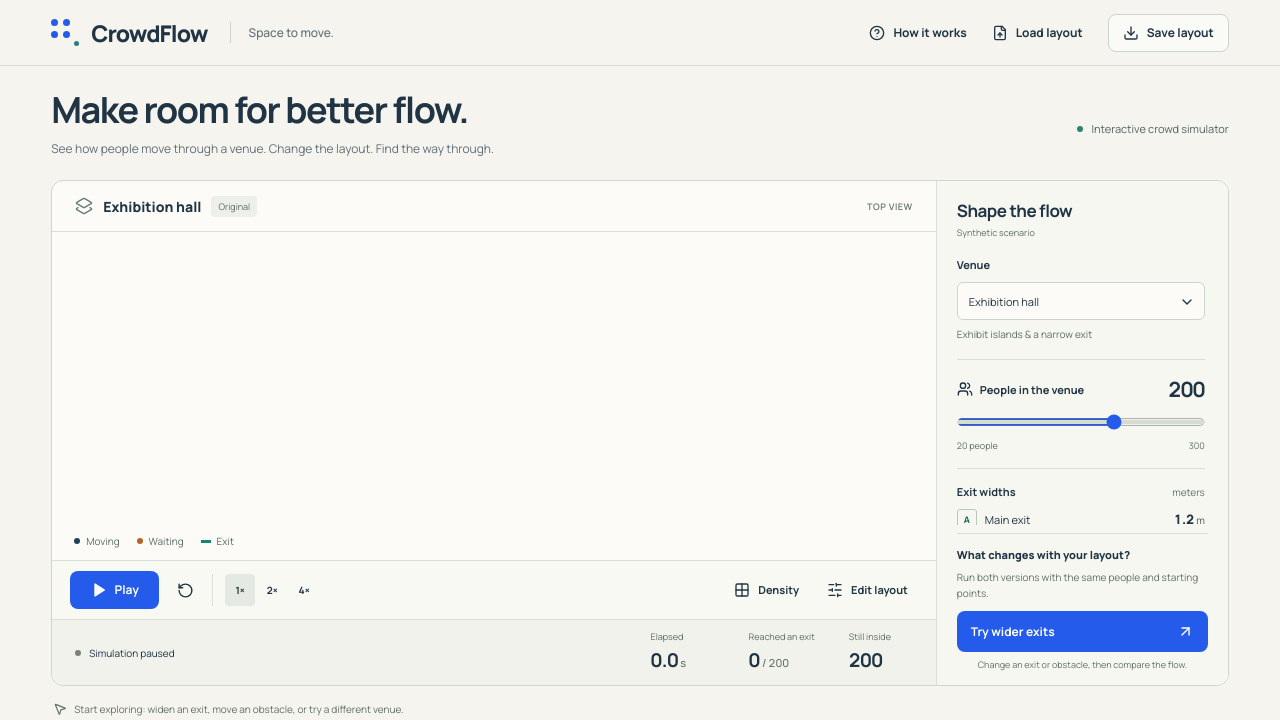
Test case: simulator controls › compares the original and changed layout with the same crowd and seed
Click the button "Try wider exits" at (1082, 631), box [957,611,1208,652]
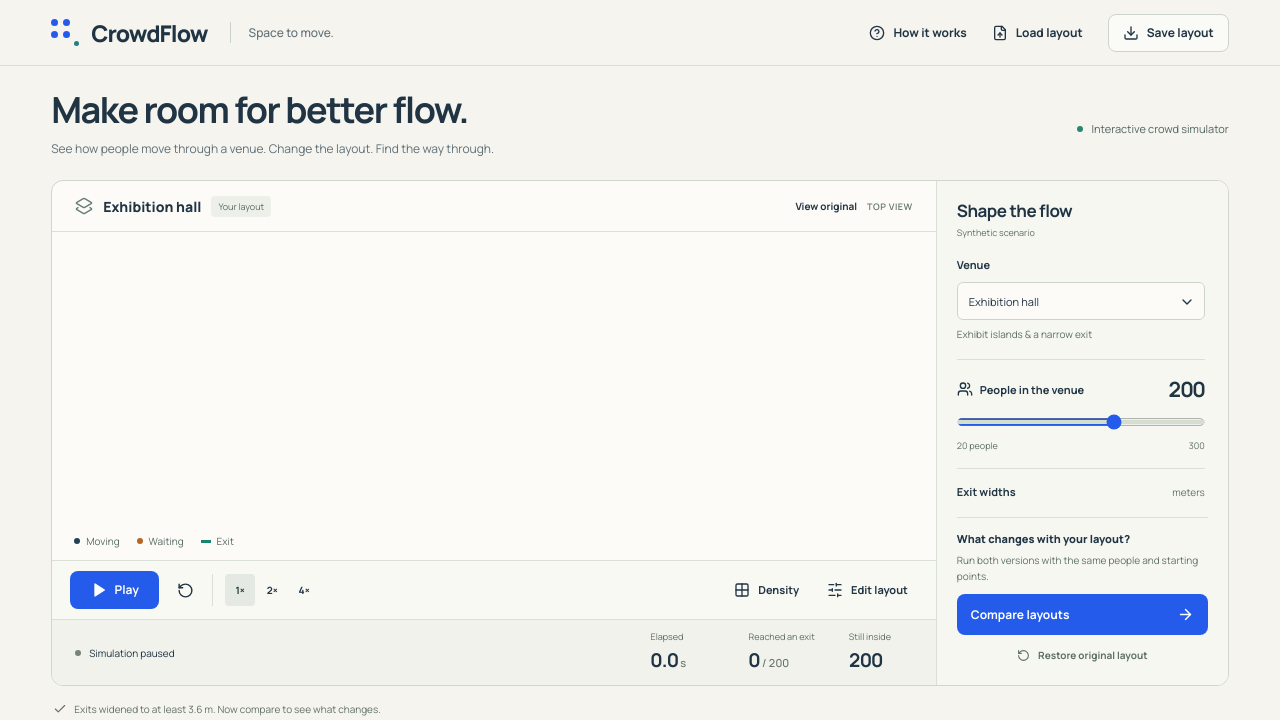
Click the button "Compare layouts" at (1082, 615), box [957,594,1208,635]
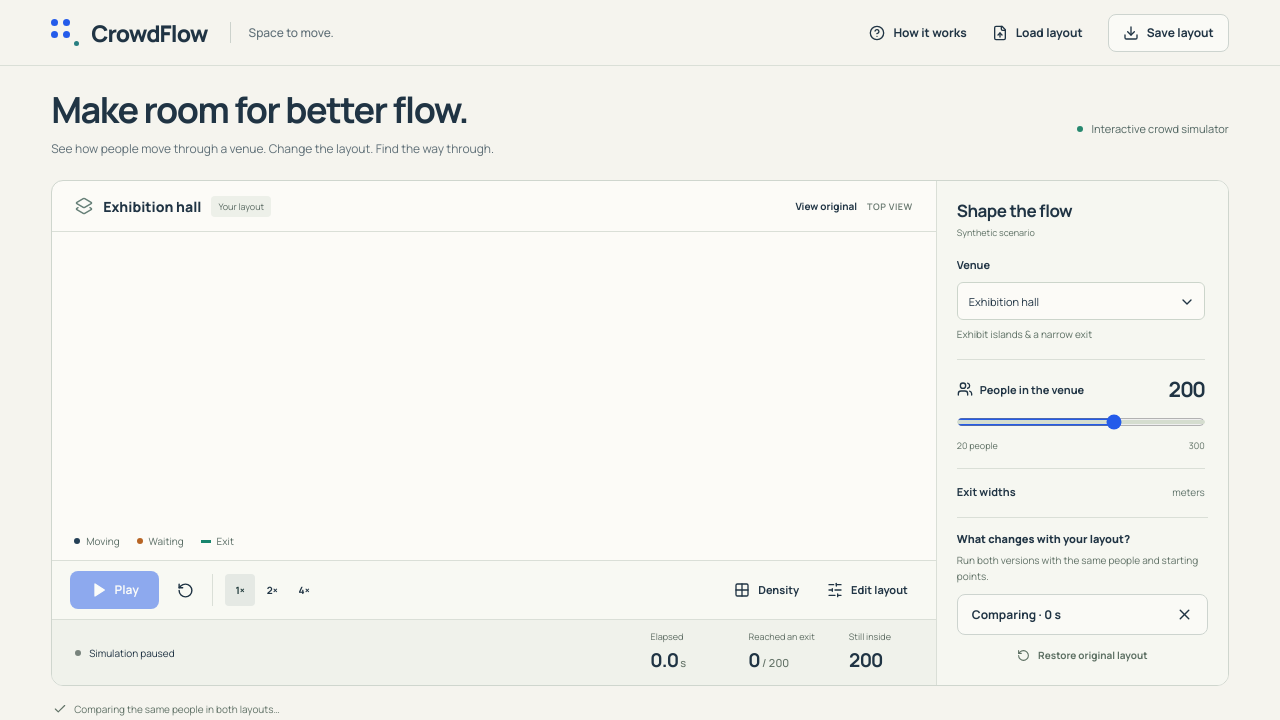
Click the button named "Cancel" at (1082, 615), box [957,594,1208,635]
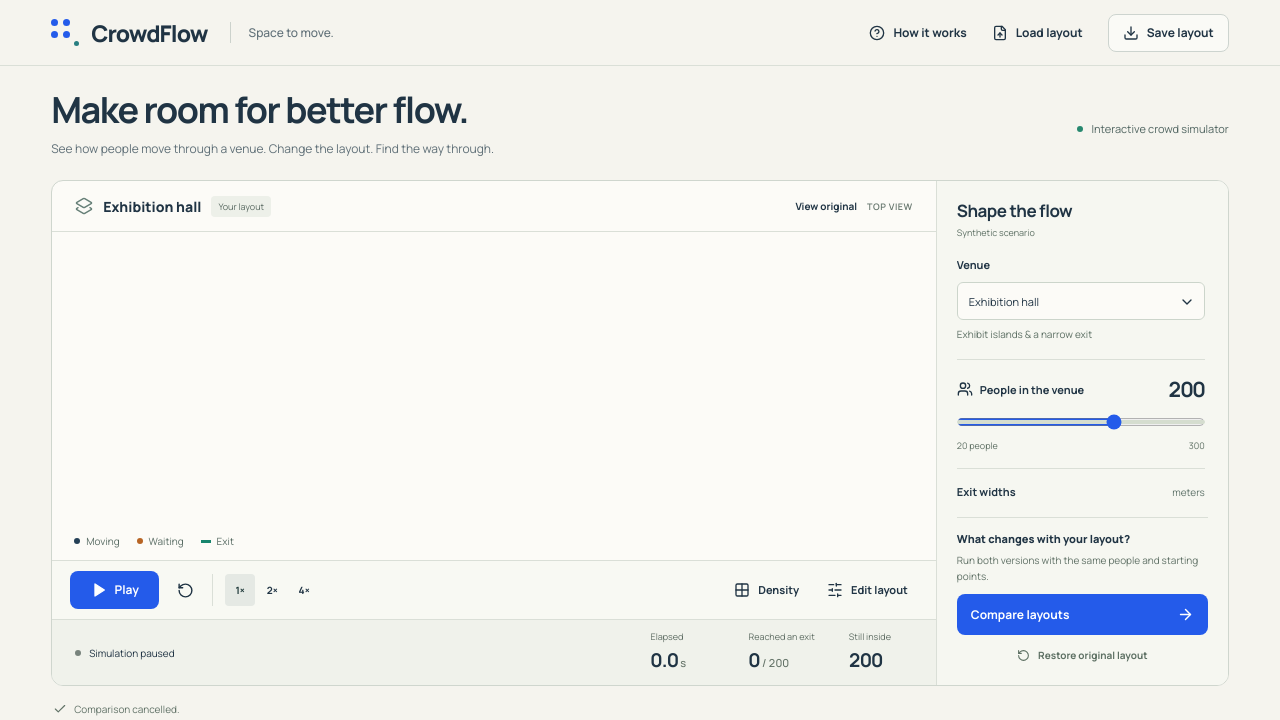
Result: the button "Compare layouts" is shown at [957,594,1208,635]
